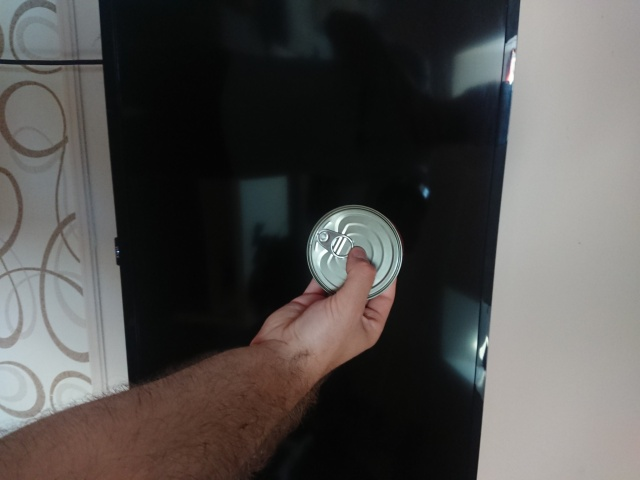Giana Tuna Salad Mexico 185g: (304, 202, 406, 305)
